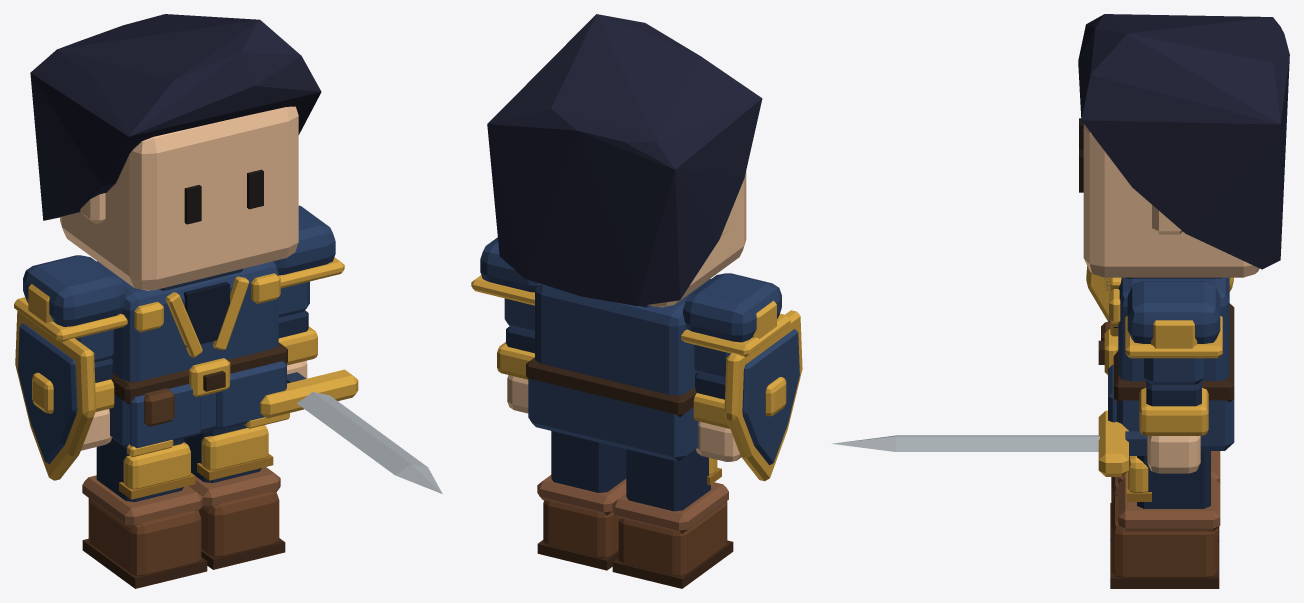
The model's file is warrior.glb.
3 views of the same model, side by side, from view 1: azimuth 30°, elevation 25°; view 2: azimuth 150°, elevation 25°; view 3: azimuth 270°, elevation 25° (orthographic). The views are drawn at different scales.
Parts seen in each view (by area): view 1: hull, Cube.042, Cube.012, Cube.003, Cube.032, slab.001, Cube.009, hull.001, slab, Cube.021, Cube.004, Cube.017 (+32 smaller); view 2: hull, Cube.012, Cube.013, Cube.003, Cube.032, slab.001, Cube, Cube.006, Cube.009, slab, Cube.023, Cube.004 (+17 smaller); view 3: hull, Cube.042, Cube.009, Cube.039, hull.001, Cube.012, Cube.010, Cube.006, Cube.037, Cube.013, Cube.038, Cube.023 (+8 smaller).
Boxes of the visible parts, <box> form: hull: <box>30,14,321,220</box>; Cube.042: <box>60,106,298,290</box>; Cube.012: <box>97,261,278,381</box>; Cube.003: <box>88,498,201,575</box>; Cube.032: <box>23,255,125,326</box>; slab.001: <box>18,323,77,463</box>; Cube.009: <box>198,491,279,556</box>; hull.001: <box>297,392,442,493</box>; slab: <box>15,311,96,480</box>; Cube.021: <box>216,361,286,429</box>; Cube.004: <box>82,475,202,528</box>; Cube.017: <box>130,384,201,448</box>; hull: <box>487,14,762,306</box>; Cube.012: <box>535,279,710,395</box>; Cube.013: <box>528,379,698,461</box>; Cube.003: <box>618,501,727,576</box>; Cube.032: <box>683,273,781,342</box>; slab.001: <box>742,329,799,464</box>; Cube: <box>626,449,710,511</box>; Cube.006: <box>551,431,626,492</box>; Cube.009: <box>543,500,618,558</box>; slab: <box>724,310,802,481</box>; Cube.023: <box>526,357,696,416</box>; Cube.004: <box>612,482,728,533</box>; hull: <box>1078,14,1289,269</box>; Cube.042: <box>1083,124,1259,277</box>; Cube.009: <box>1111,495,1217,577</box>; Cube.039: <box>1127,281,1220,343</box>; hull.001: <box>831,435,1099,451</box>; Cube.012: <box>1118,277,1229,381</box>; Cube.010: <box>1118,477,1220,531</box>; Cube.006: <box>1137,451,1210,508</box>; Cube.037: <box>1139,388,1208,435</box>; Cube.013: <box>1116,398,1234,450</box>; Cube.038: <box>1147,436,1200,473</box>; Cube.023: <box>1113,303,1234,402</box>.
Size of the model in its own units: 1.51 by 2.6 by 1.98.
